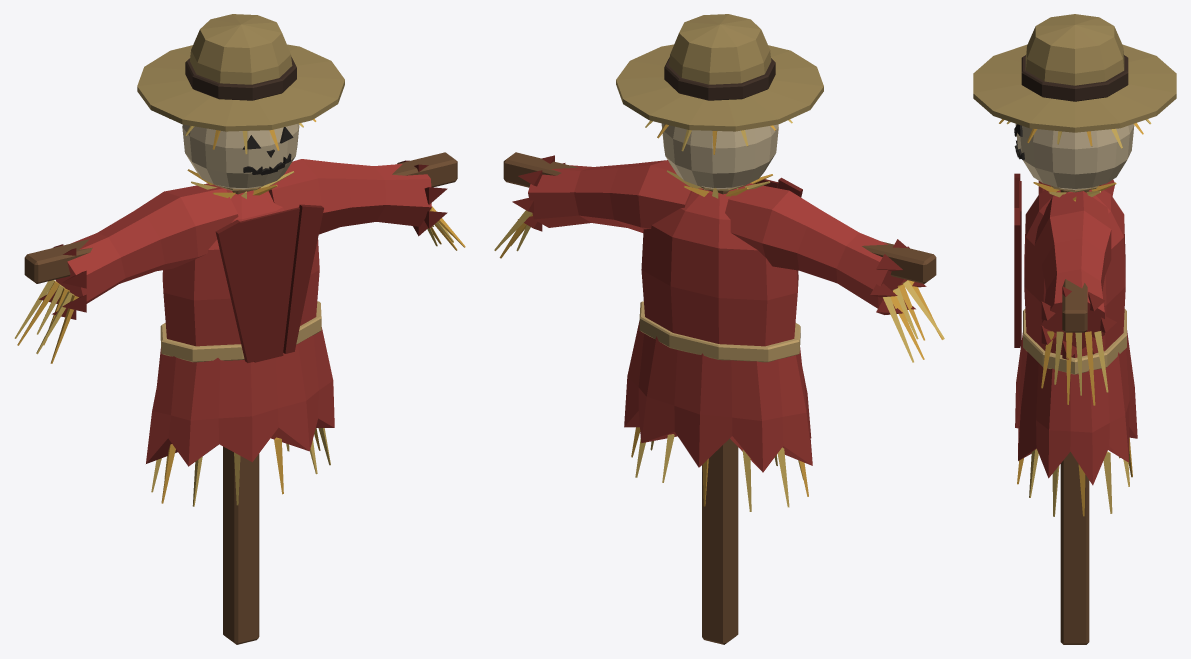
The model's file is Scarecrow_-_Low_Poly_Medieval_CC0.glb.
3 renders of one model, left to right at view 1: azimuth 30°, elevation 25°; view 2: azimuth 150°, elevation 25°; view 3: azimuth 270°, elevation 25°, orthographic.
Parts seen in each view (by area): view 1: unnamed; view 2: unnamed; view 3: unnamed.
Boxes of the visible parts, bbox=[...] form: unnamed: bbox=[14, 14, 465, 644]; unnamed: bbox=[494, 14, 944, 644]; unnamed: bbox=[973, 14, 1176, 644].
Bounding box in the file's own units: 1.38 × 1.89 × 0.5655.
Materials: 1 (1 with a texture image).
